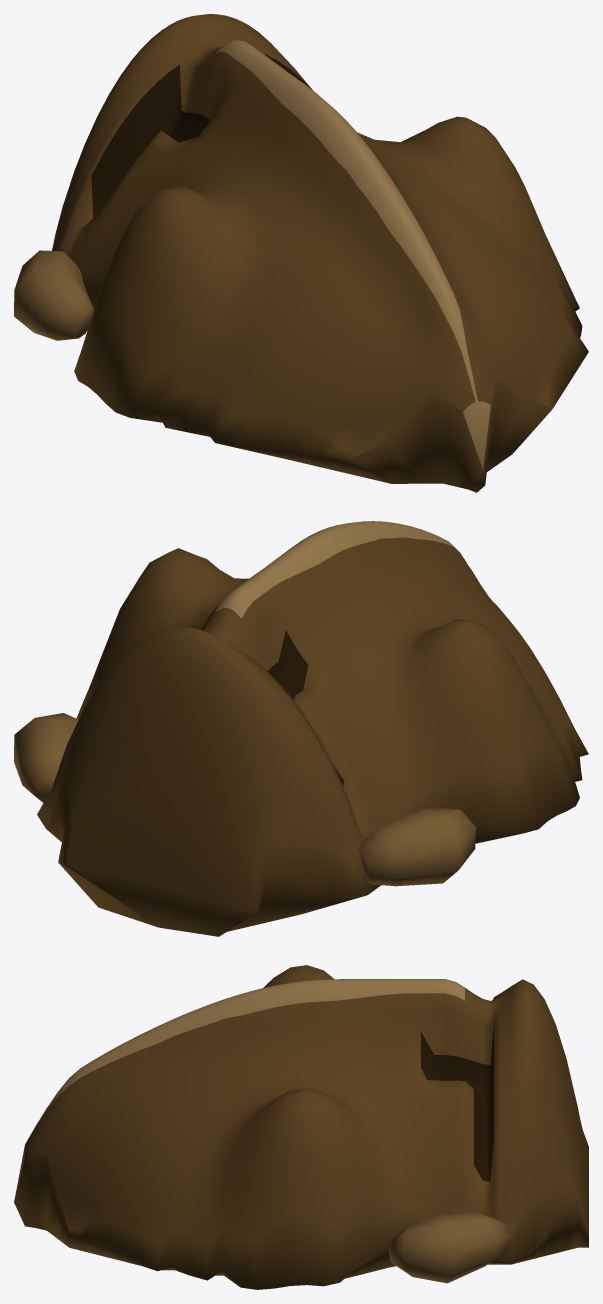
The model's file is newshh-131.glb.
3 renders of one model, top to bottom at view 1: azimuth 30°, elevation 25°; view 2: azimuth 150°, elevation 25°; view 3: azimuth 270°, elevation 25°, orthographic. The views are drawn at different scales.
Visible parts, largest first — view 1: newshh-131; view 2: newshh-131; view 3: newshh-131.
Part boxes in pixels (x1=…): newshh-131: x1=14, y1=14, x2=588, y2=492; newshh-131: x1=14, y1=521, x2=588, y2=936; newshh-131: x1=14, y1=965, x2=588, y2=1289.
Bounding box in the file's own units: 1.78 × 1.03 × 2.17.
